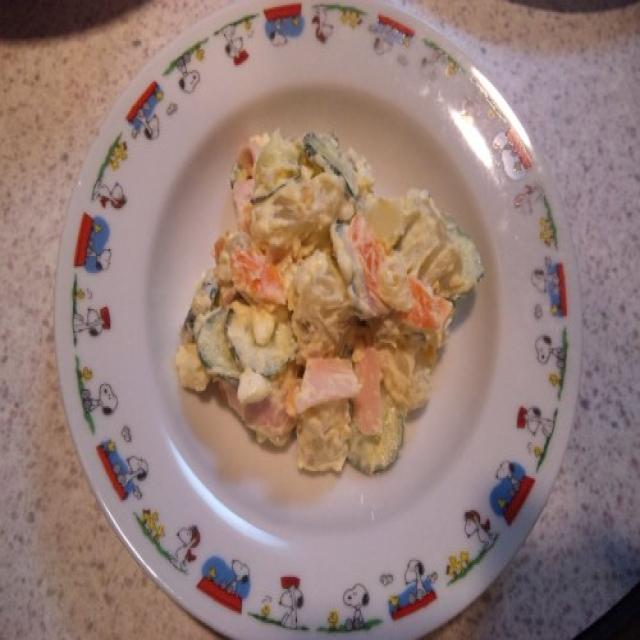蔬菜料理: (51, 0, 584, 640)
